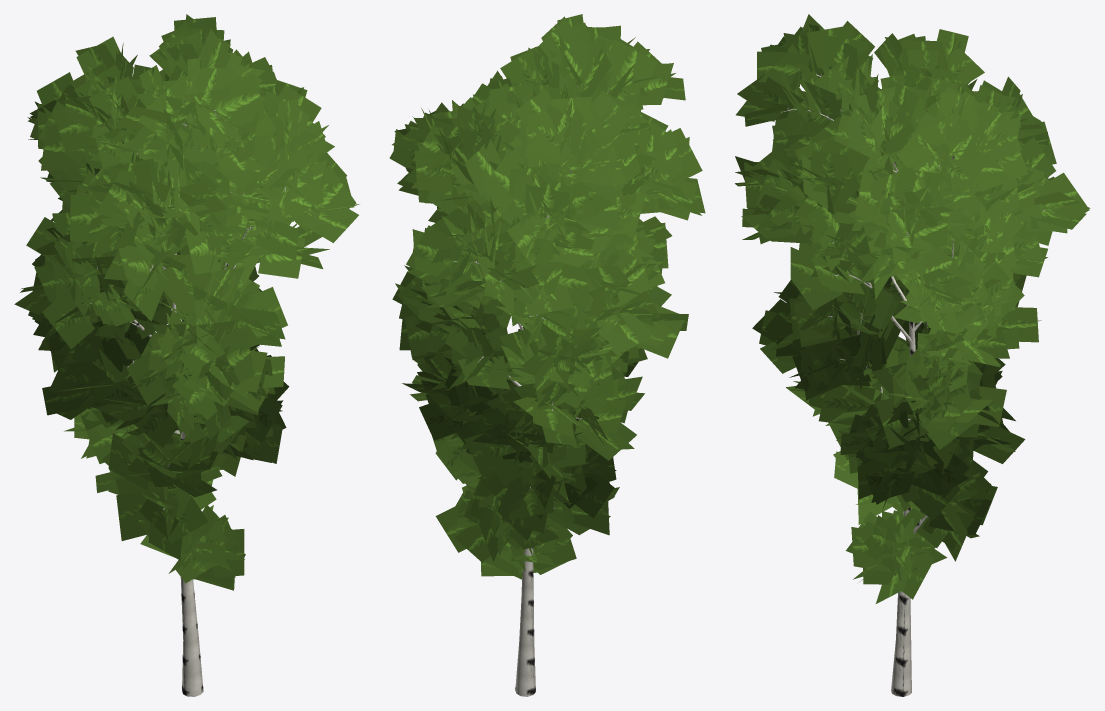
Rendered from birch.glb.
3 views of the same model, side by side, from view 1: azimuth 30°, elevation 25°; view 2: azimuth 150°, elevation 25°; view 3: azimuth 270°, elevation 25° (orthographic). The views are drawn at different scales.
Visible parts, largest first — view 1: birch; view 2: birch; view 3: birch.
Part boxes in pixels (x1,y1,x2,y2): birch: [14, 14, 359, 696]; birch: [389, 14, 705, 696]; birch: [735, 14, 1090, 696].
Size of the model in its own units: 7.09 by 16.23 by 7.87.
Materials: 2 (2 with a texture image).
